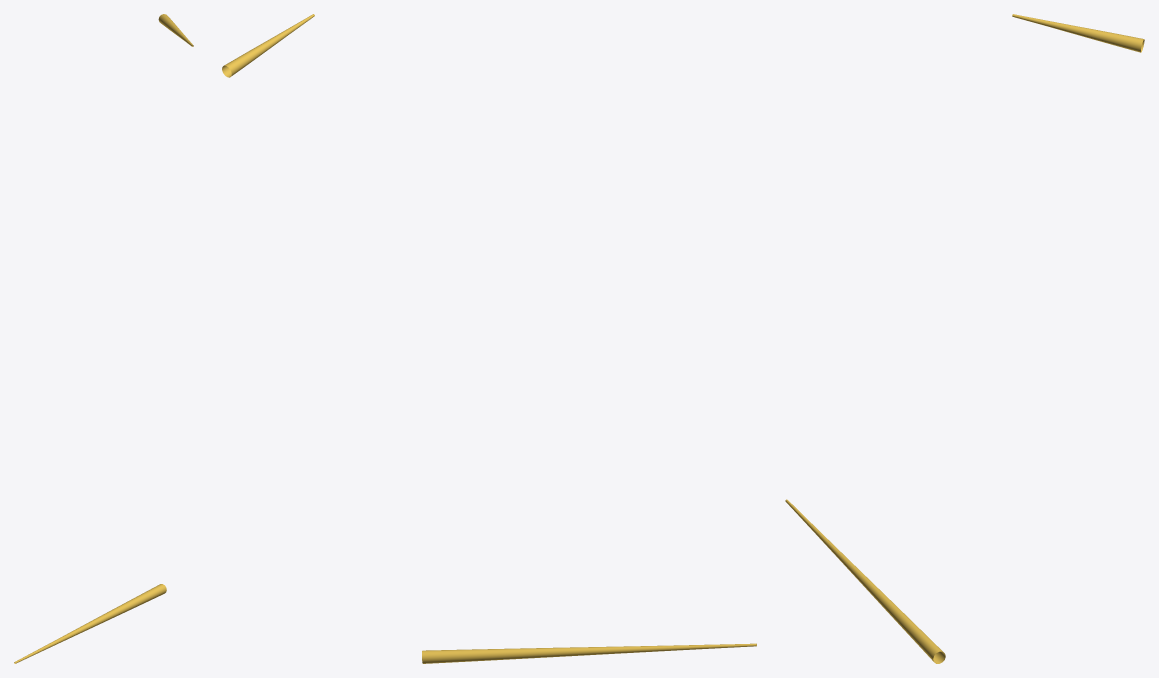
The model's file is Muscular_branches_ulnar_nerve_right.glb.
The picture shows the model from 3 angles, left to right: view 1: azimuth 30°, elevation 25°; view 2: azimuth 150°, elevation 25°; view 3: azimuth 270°, elevation 25°; orthographic projection. The views are drawn at different scales.
Visible parts, largest first — view 1: Muscular_branches_of_ulnar_nerve.r_BezierCurve.499; view 2: Muscular_branches_of_ulnar_nerve.r_BezierCurve.499; view 3: Muscular_branches_of_ulnar_nerve.r_BezierCurve.499.
Part boxes in pixels (x1,y1,x2,y2): Muscular_branches_of_ulnar_nerve.r_BezierCurve.499: (14,14,193,663); Muscular_branches_of_ulnar_nerve.r_BezierCurve.499: (222,14,756,663); Muscular_branches_of_ulnar_nerve.r_BezierCurve.499: (785,14,1144,663).
Bounding box in the file's own units: 0.0314 × 0.0539 × 0.0255.
